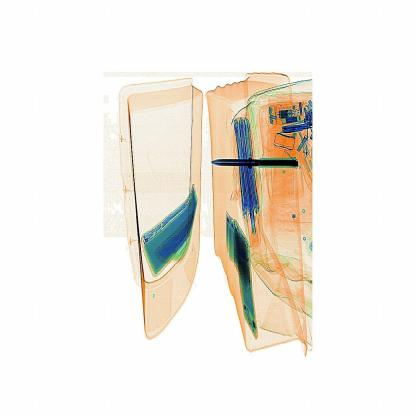gun: (210, 140, 302, 177)
